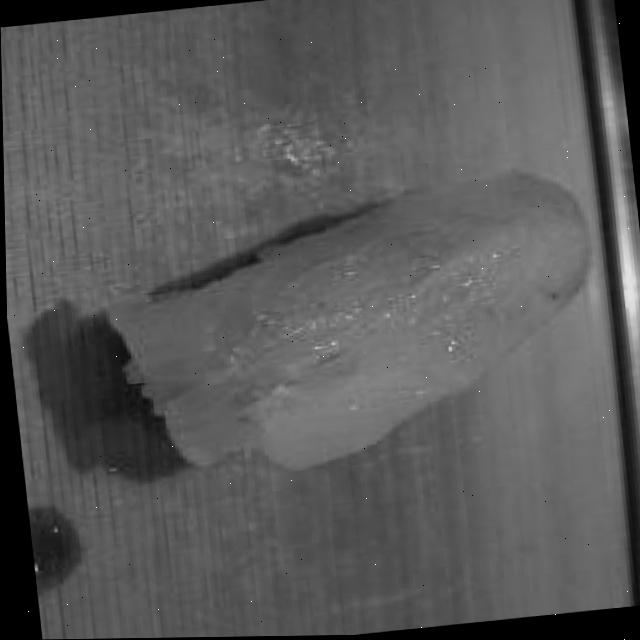寿司卷物: (37, 131, 627, 493)
